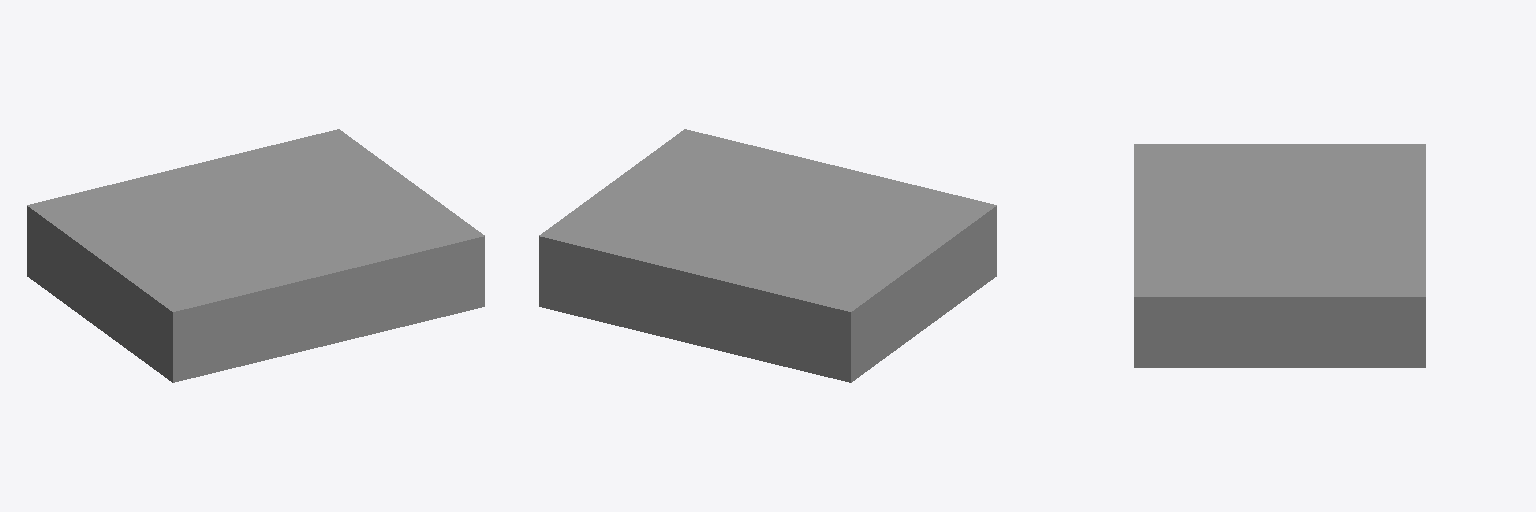
Rendered from room0.obj.
3 renders of one model, left to right at view 1: azimuth 30°, elevation 25°; view 2: azimuth 150°, elevation 25°; view 3: azimuth 270°, elevation 25°, orthographic.
Parts seen in each view (by area): view 1: Cube; view 2: Cube; view 3: Cube.
Boxes of the visible parts, <box> form: Cube: <box>27,129,484,382</box>; Cube: <box>539,129,996,382</box>; Cube: <box>1134,144,1425,367</box>.
Bounding box in the file's own units: 37 × 8 × 30.